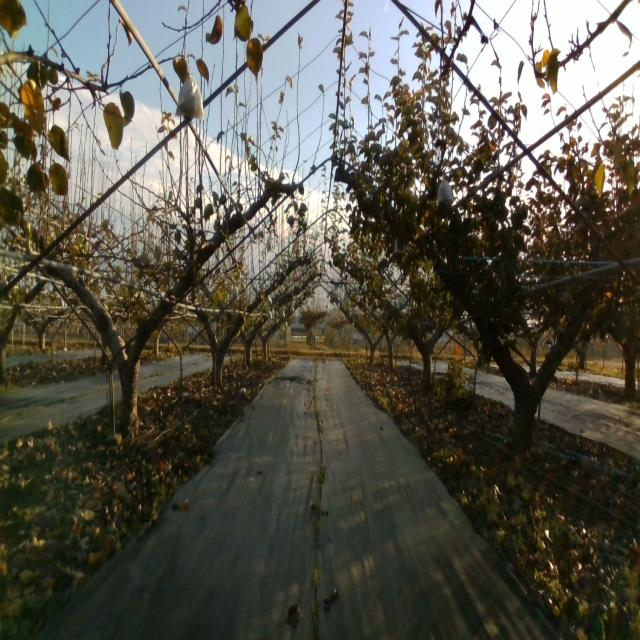pearbags: (174, 73, 204, 121), (436, 180, 454, 203)
